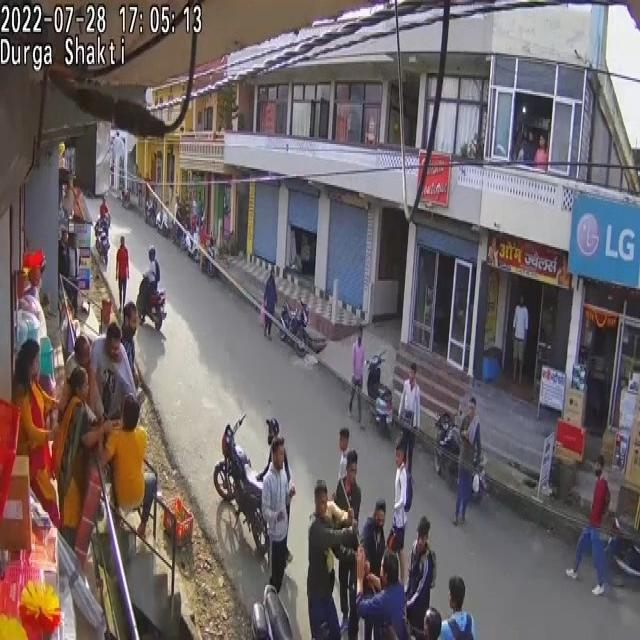fight: (11, 208, 162, 589), (304, 390, 467, 638), (55, 364, 108, 545), (307, 487, 360, 640), (104, 395, 148, 538), (358, 498, 388, 640), (404, 516, 435, 638), (120, 304, 139, 383), (337, 428, 352, 488)
non-fight: (566, 456, 618, 594), (262, 438, 296, 593), (452, 395, 480, 524), (388, 442, 410, 578), (398, 363, 421, 470), (348, 330, 366, 421), (139, 248, 161, 321), (512, 294, 529, 384), (262, 271, 278, 341)
